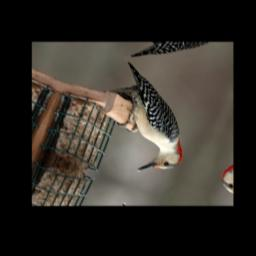Woodpecker: (82, 59, 212, 184)
